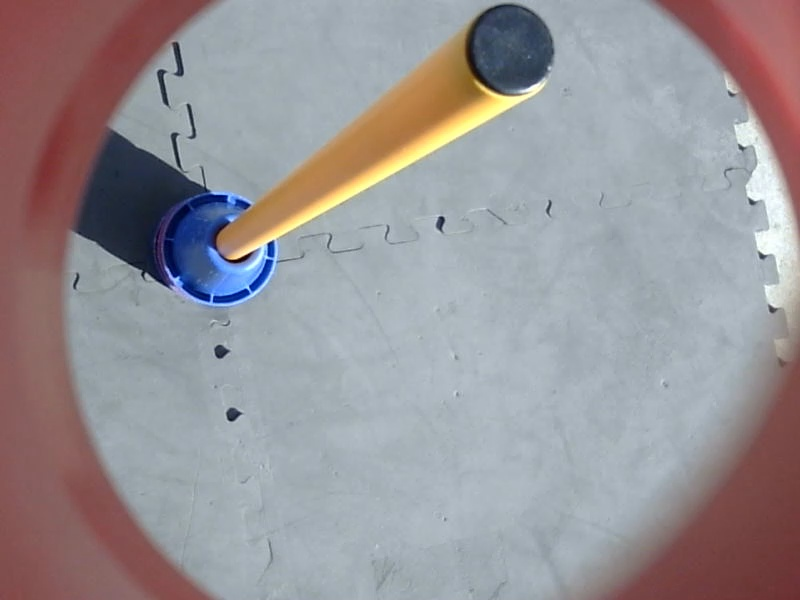tip: (462, 1, 562, 103)
